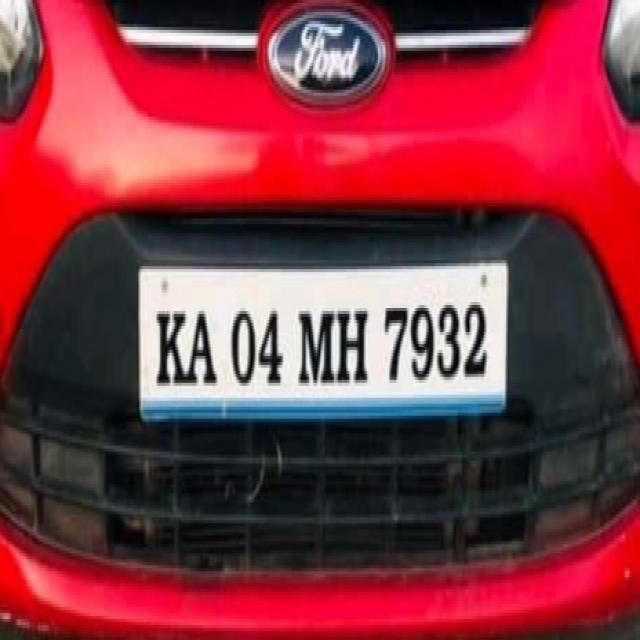0: (228, 302, 258, 386)
3: (434, 292, 462, 384)
4: (256, 300, 287, 390)
7: (381, 294, 412, 382)
9: (412, 291, 437, 388)
A: (186, 300, 218, 394)
H: (334, 288, 370, 392)
K: (154, 300, 188, 394)
M: (296, 292, 336, 386)
